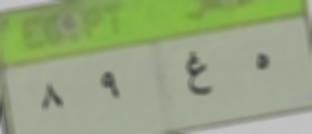8: (37, 81, 66, 115)
9: (97, 68, 124, 103)
ghayn: (182, 49, 217, 100)
haa: (249, 50, 273, 78)
